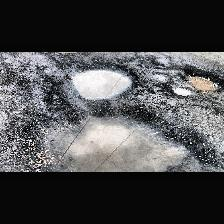pothole: (32, 106, 212, 172), (66, 63, 136, 101), (183, 70, 223, 92), (172, 86, 192, 96)
